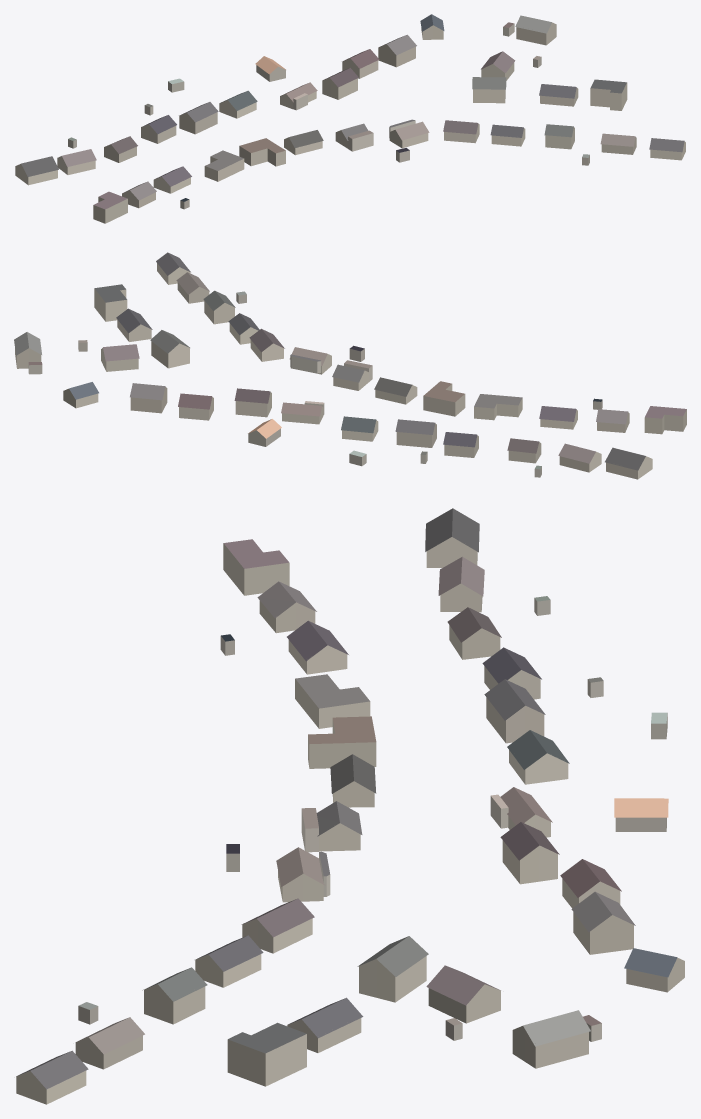
The picture shows the model from 3 angles, top to bottom: view 1: azimuth 30°, elevation 25°; view 2: azimuth 150°, elevation 25°; view 3: azimuth 270°, elevation 25°; orthographic projection. The views are drawn at different scales.
Visible parts, largest first — view 1: tuile; view 2: tuile; view 3: tuile.
Boxes of the visible parts, <box> form: tuile: <box>15,14,685,223</box>; tuile: <box>14,252,686,479</box>; tuile: <box>16,508,684,1104</box>.
Bounding box in the file's own units: 263 × 20.22 × 146.
